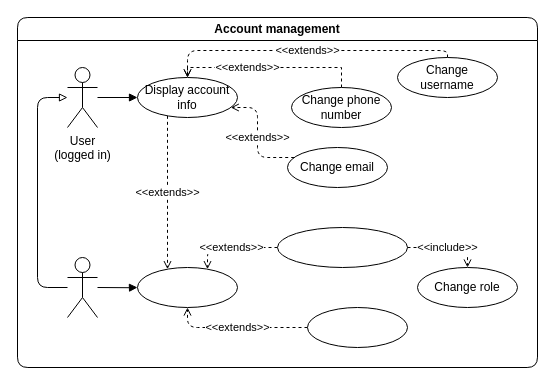
Image size: 555x385. Some labels were removed from this diagram. Each missing label, with the centre of its shape:
"Admin" belongs at (x=82, y=287).
"Deactivate user" belongs at (x=357, y=327).
"Display all users" belongs at (x=187, y=287).
"Modify user's details" belongs at (x=342, y=247).
